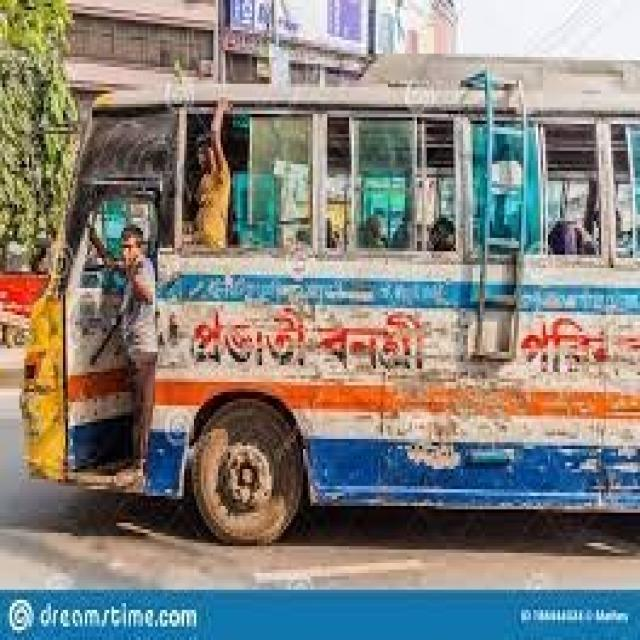bus: (22, 49, 640, 556)
